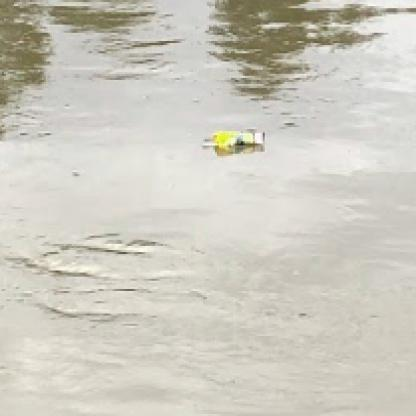Metal: (201, 125, 271, 154)
